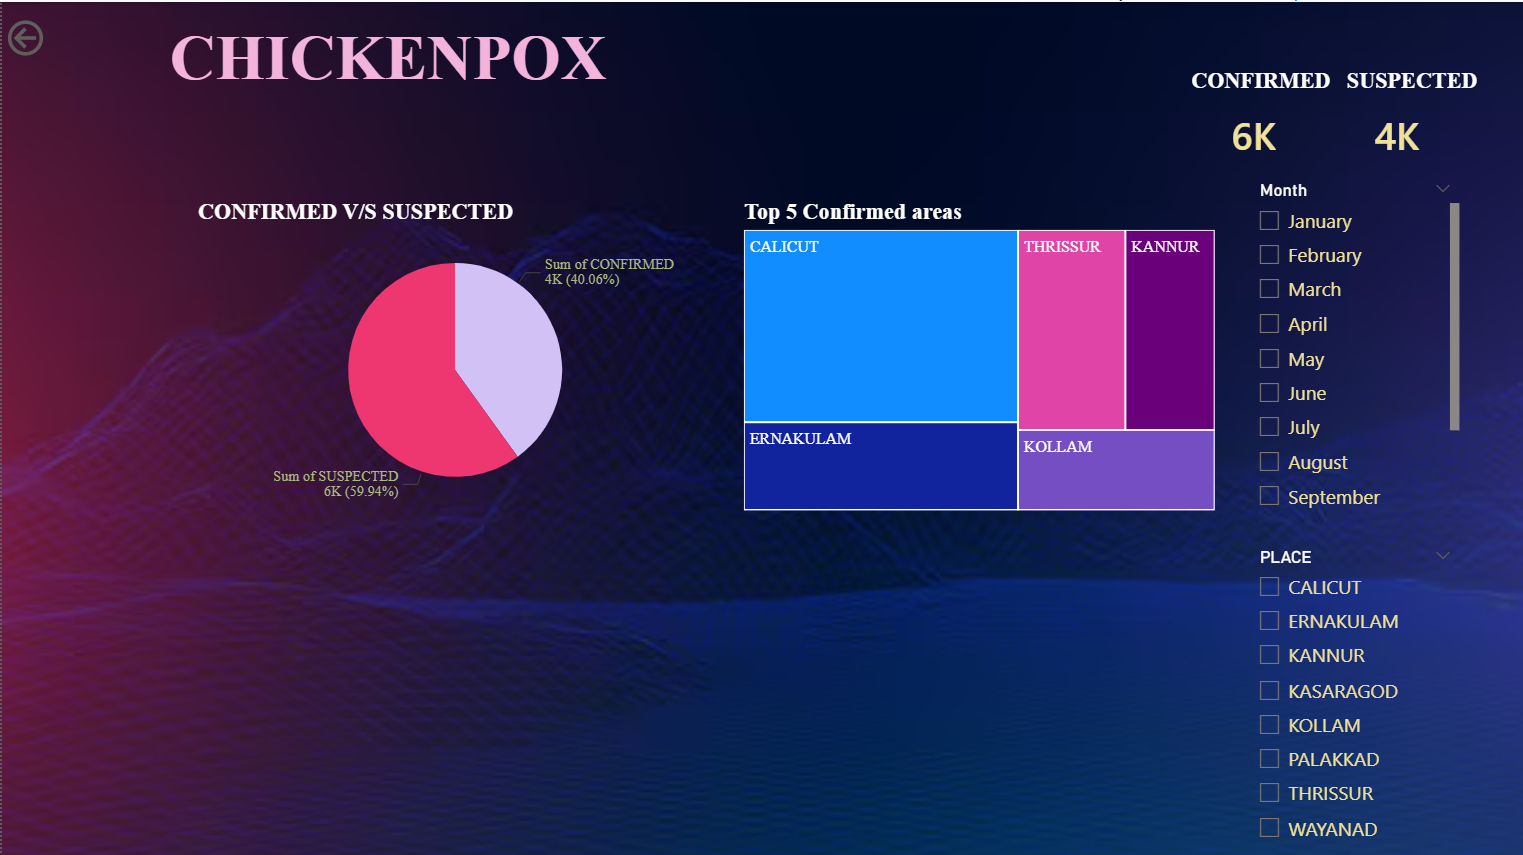

Layout of this report page (visuals, bound fields, positions):
{"tool":"powerbi","page":{"name":"Chickenpox","canvas":[1280,720],"ordinal":7},"visuals":[{"type":"cardVisual","fields":{"Data":["Sum(DISEASES.SUSPECTED)","Sum(DISEASES.CONFIRMED)"]},"box":[1004.7,30.2,267.4,161.6],"z":0},{"type":"actionButton","box":[0,10.5,100,39.5],"z":1},{"type":"textbox","box":[991.9,50,134.9,37.2],"z":2},{"type":"textbox","box":[1118.6,50,134.9,37.2],"z":3},{"type":"textbox","box":[100,11.6,450,77.9],"z":4},{"type":"slicer","fields":{"Values":["DISEASES.MONTH.Variation.Date Hierarchy.Month"]},"box":[1045.4,145.3,186,287.2],"z":5},{"type":"slicer","fields":{"Values":["DISEASES.PLACE"]},"box":[1045.4,453.5,186,266.3],"z":6},{"type":"treemap","title":"Top 5 Confirmed areas","fields":{"Group":["DISEASES.PLACE"],"Values":["Sum(DISEASES.CONFIRMED)"]},"box":[619.8,166.3,405.8,266.3],"z":7},{"type":"pieChart","title":"CONFIRMED V/S SUSPECTED","fields":{"Y":["Sum(DISEASES.CONFIRMED)","Sum(DISEASES.SUSPECTED)"]},"box":[159.3,166.3,443,266.3],"z":8}]}

Visuals, with their boxes in screenshot pixels (x1, y1, x2, y2), scaled from the page's 1280x720 canvas onto the 1523x855 screenshot:
cardVisual - Sum(DISEASES.SUSPECTED) x Sum(DISEASES.CONFIRMED): BBox(1195, 36, 1514, 228)
actionButton: BBox(0, 12, 119, 59)
textbox: BBox(1180, 59, 1341, 104)
textbox: BBox(1331, 59, 1491, 104)
textbox: BBox(119, 14, 654, 106)
slicer - DISEASES.MONTH.Variation.Date Hierarchy.Month: BBox(1244, 173, 1465, 514)
slicer - DISEASES.PLACE: BBox(1244, 539, 1465, 854)
"Top 5 Confirmed areas" treemap: BBox(737, 197, 1220, 514)
"CONFIRMED V/S SUSPECTED" pieChart: BBox(190, 197, 717, 514)
